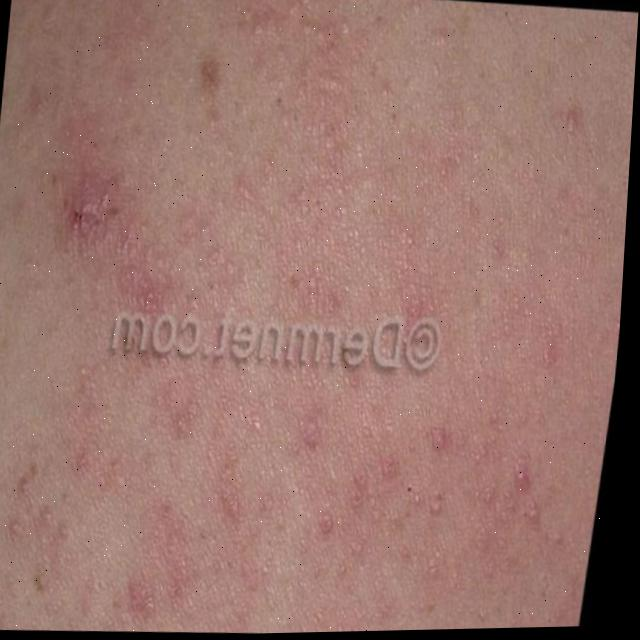Eczema: (0, 102, 628, 640)
